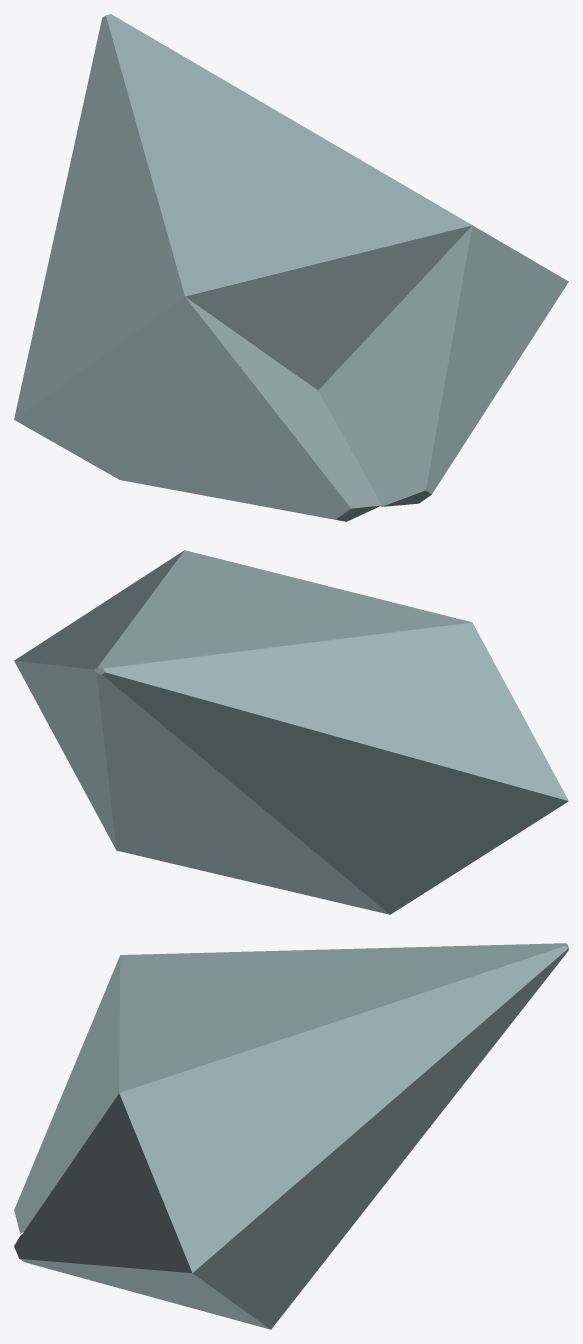
File: nave.fbx
The picture shows the model from 3 angles, top to bottom: view 1: azimuth 30°, elevation 25°; view 2: azimuth 150°, elevation 25°; view 3: azimuth 270°, elevation 25°; orthographic projection.
Visible parts, largest first — view 1: Cube; view 2: Cube; view 3: Cube.
Boxes of the visible parts, box(x1,y1,x2,y2) form: Cube: box(14, 14, 568, 521); Cube: box(14, 550, 568, 914); Cube: box(14, 943, 568, 1329).
Bounding box in the file's own units: 2.91 × 1.62 × 2.53.
